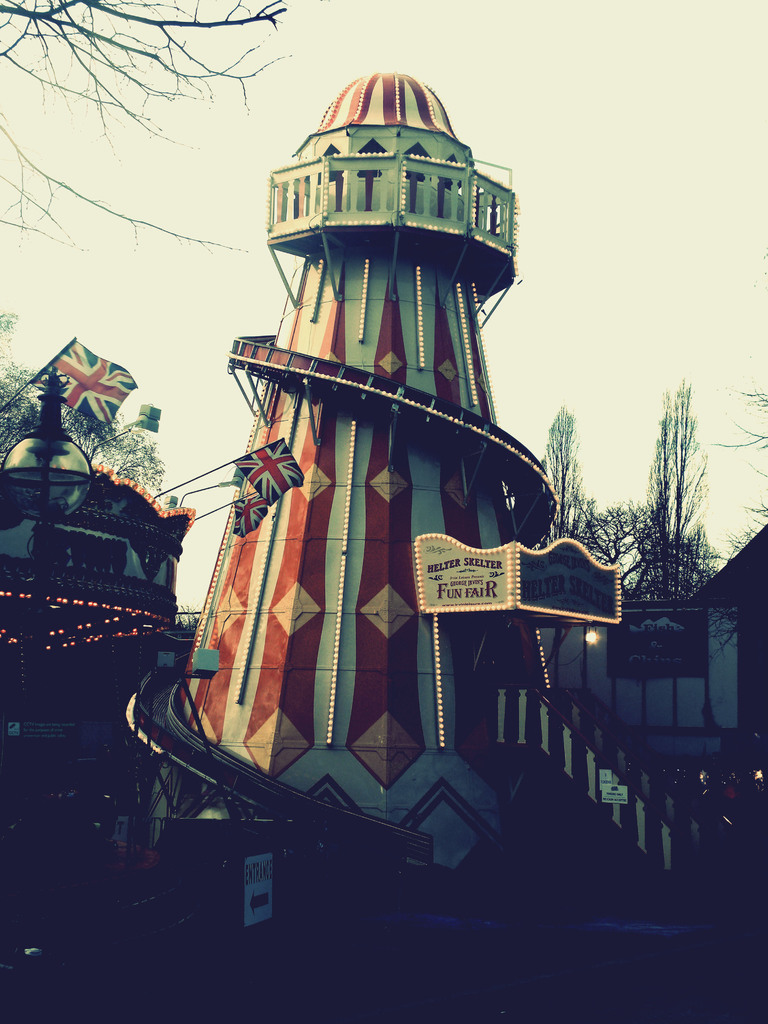Tree: (618, 354, 737, 619), (0, 336, 163, 504), (533, 392, 598, 556), (729, 369, 767, 518)
